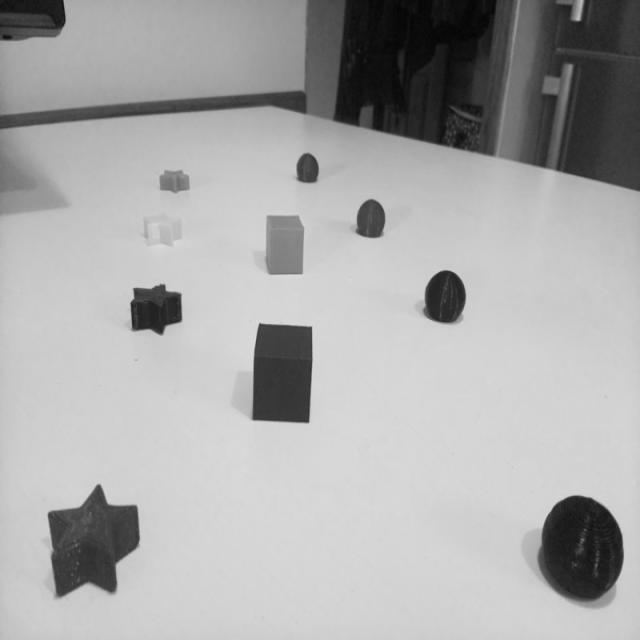ball: (536, 490, 628, 603), (424, 266, 467, 325), (354, 193, 388, 240), (295, 148, 321, 188)
cube: (247, 318, 319, 430), (264, 210, 308, 280)
star: (46, 483, 145, 607), (126, 280, 188, 340), (140, 208, 186, 248), (158, 166, 192, 200)
